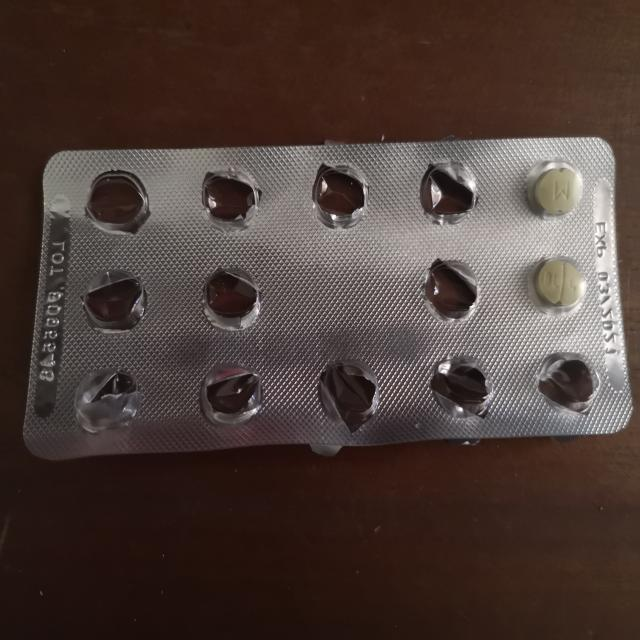Empty: (194, 262, 268, 339), (68, 366, 148, 437), (312, 353, 383, 432), (77, 264, 154, 336), (196, 159, 266, 238), (419, 252, 489, 330), (424, 349, 496, 422), (83, 164, 153, 239), (307, 155, 373, 234), (417, 150, 481, 228), (198, 357, 268, 428), (534, 346, 603, 414)
Pill: (521, 156, 587, 220), (528, 249, 588, 314)
